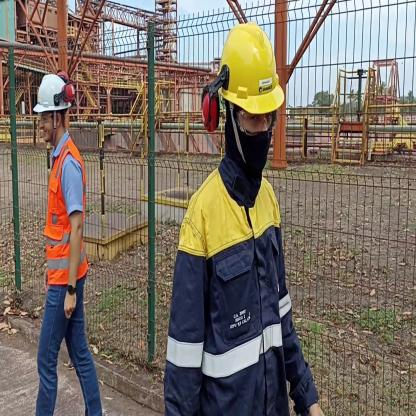Balaclava: (226, 101, 272, 190)
C_eletrica: (162, 176, 317, 416)
Capacete: (216, 17, 288, 102), (31, 68, 72, 112)
colete: (43, 149, 93, 283)
